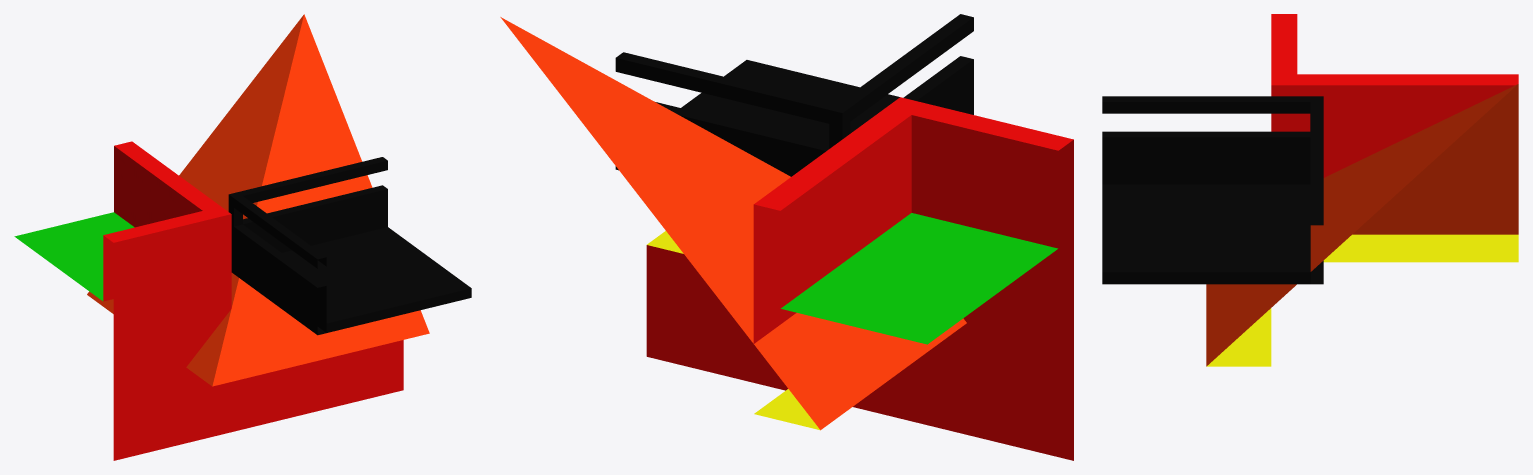
3 renders of one model, left to right at view 1: azimuth 30°, elevation 25°; view 2: azimuth 150°, elevation 25°; view 3: azimuth 270°, elevation 25°, orthographic. The views are drawn at different scales.
Visible parts, largest first — view 1: None_S_P_E_E_W_E_E_E_None; view 2: None_S_P_E_E_W_E_E_E_None; view 3: None_S_P_E_E_W_E_E_E_None.
Boxes of the visible parts, box(x1,y1,x2,y2) form: None_S_P_E_E_W_E_E_E_None: box(14, 14, 471, 460); None_S_P_E_E_W_E_E_E_None: box(500, 14, 1073, 460); None_S_P_E_E_W_E_E_E_None: box(1102, 14, 1518, 366).
Bounding box in the file's own units: 100 × 100 × 100.
